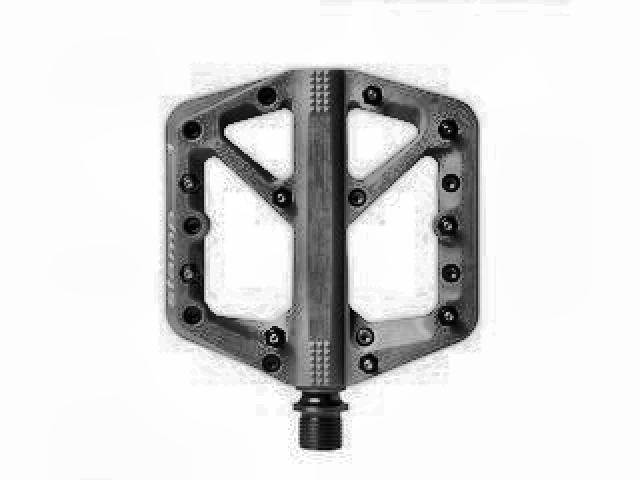pedal: (156, 63, 484, 460)
